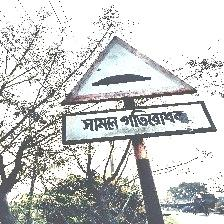Speed-breaker: (60, 37, 214, 145)
